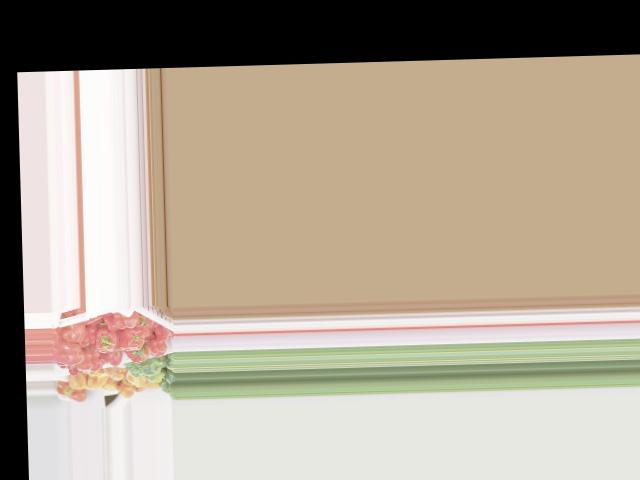bell_pepper: (103, 309, 139, 330)
